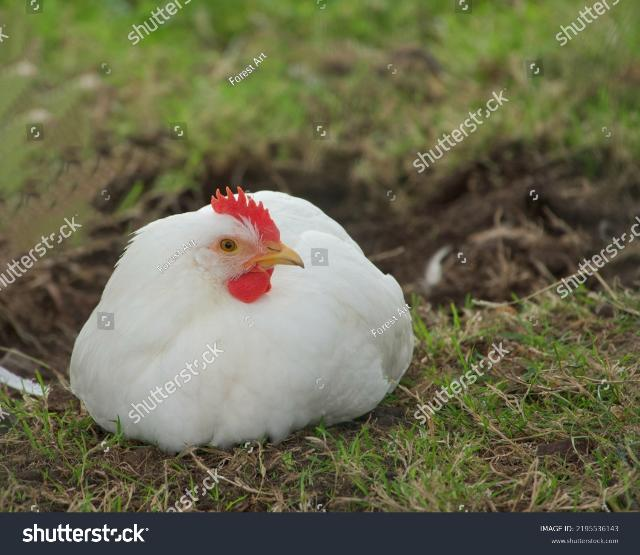Chicken: (70, 186, 415, 452)
